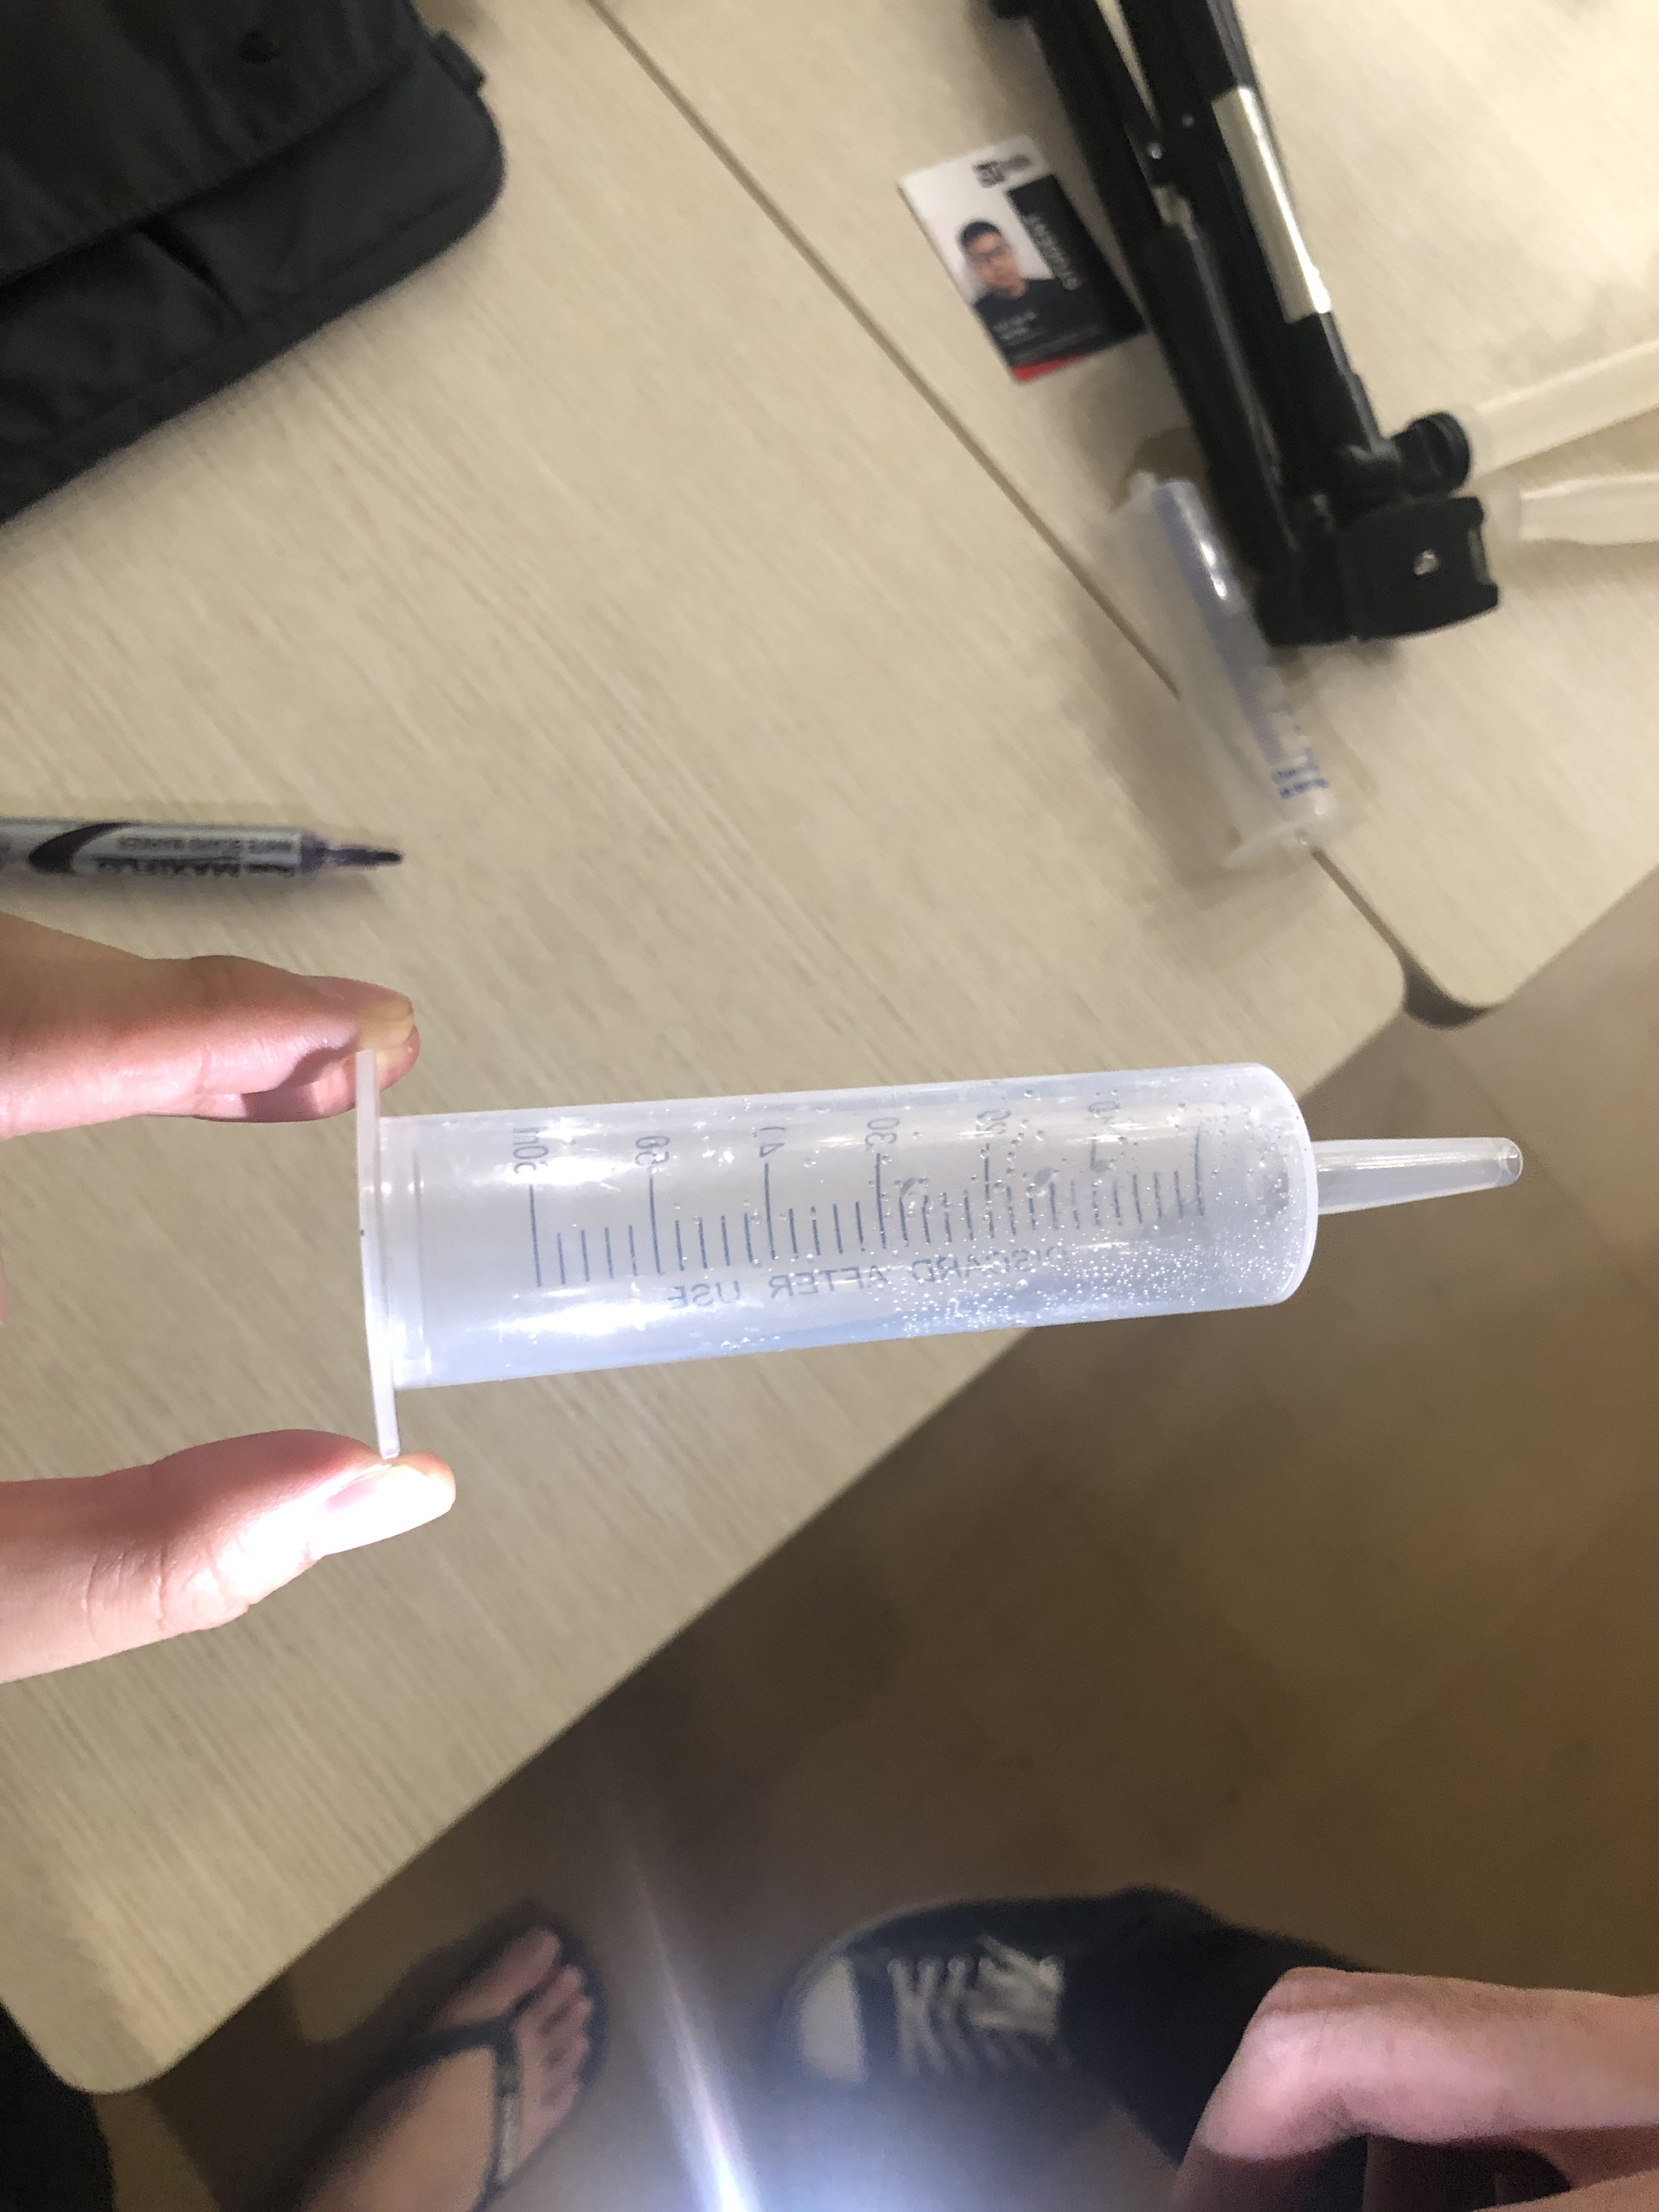syringe: (336, 1033, 1535, 1461)
